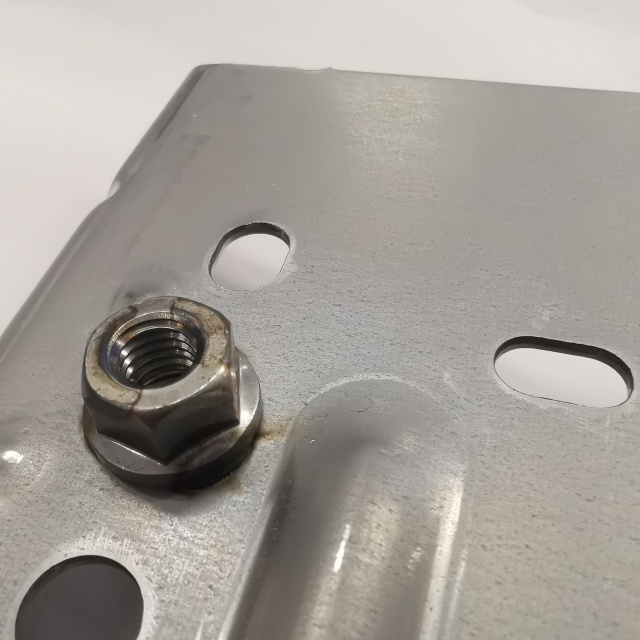dog: (72, 291, 268, 499)
